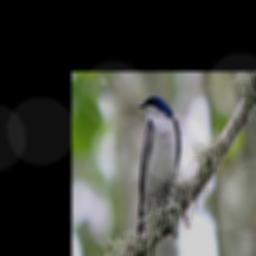Swallow: (131, 92, 181, 256)
